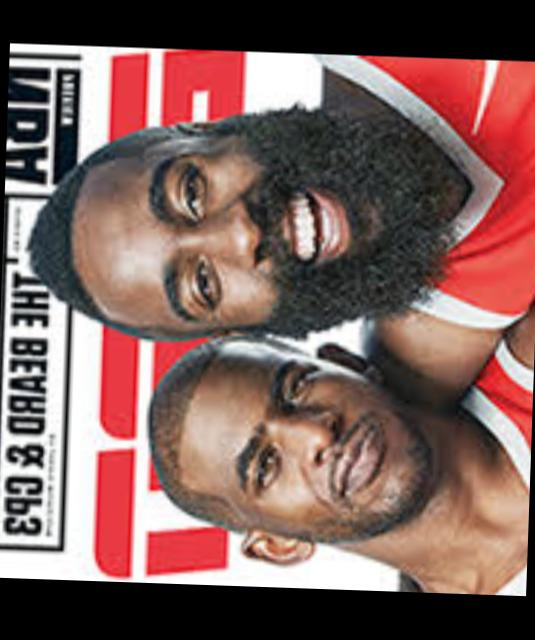cardboard paper: (0, 43, 535, 597)
